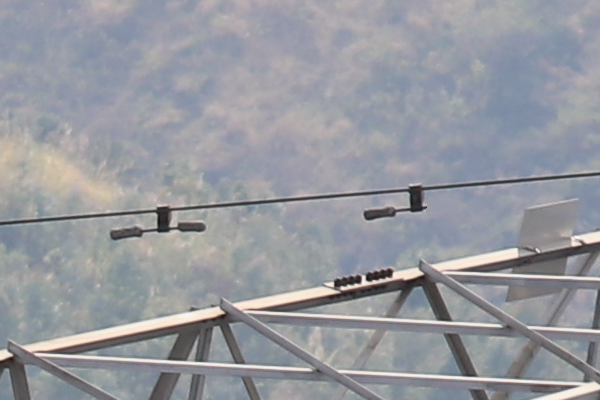damper: (106, 201, 209, 242)
damper_defect: (361, 181, 431, 222)
